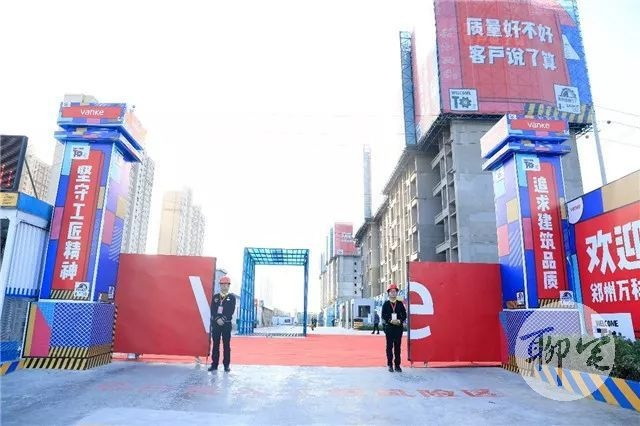red: (385, 283, 400, 300), (218, 275, 231, 292)
